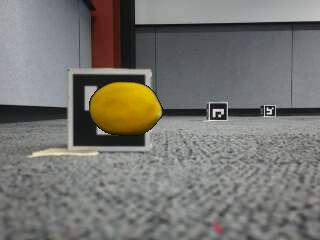lemon: (91, 82, 163, 135)
